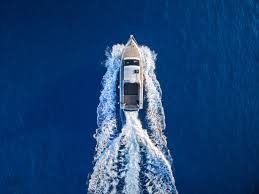boat: (119, 33, 144, 113)
